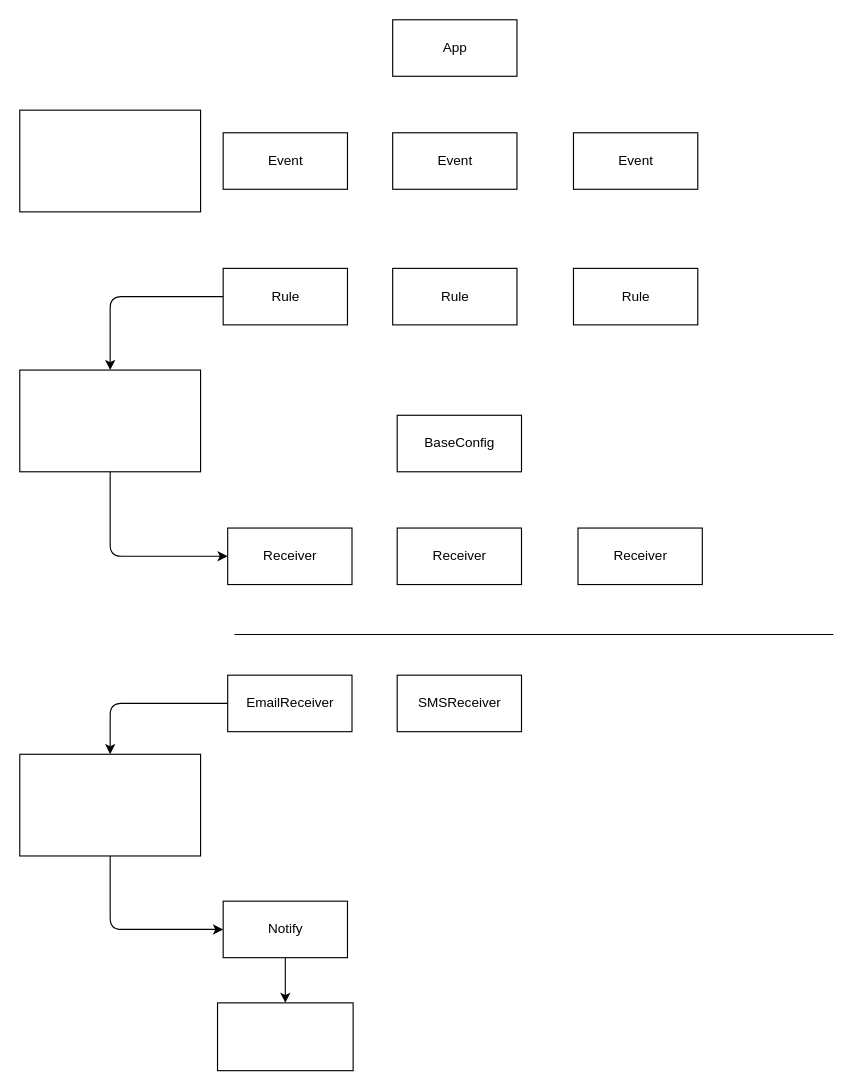
This 853x1090 diagram has some shape labels left out. The shapes that lost their labels are listed below. From the top down, each one's box as (x1, y1, x2, y2) in pixels, then its label:
(19, 109, 201, 212): labels alertname = EventName app = AppCode
(19, 369, 201, 472): Rule receiver = email groupBy = alertname,app
(19, 753, 201, 856): Channel receiver = email config = email.smtp
(216, 1002, 353, 1071): Subscribe
